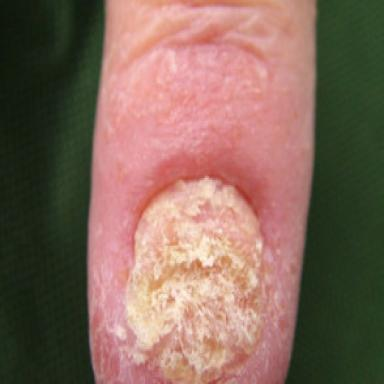eczema: (114, 176, 281, 382)
